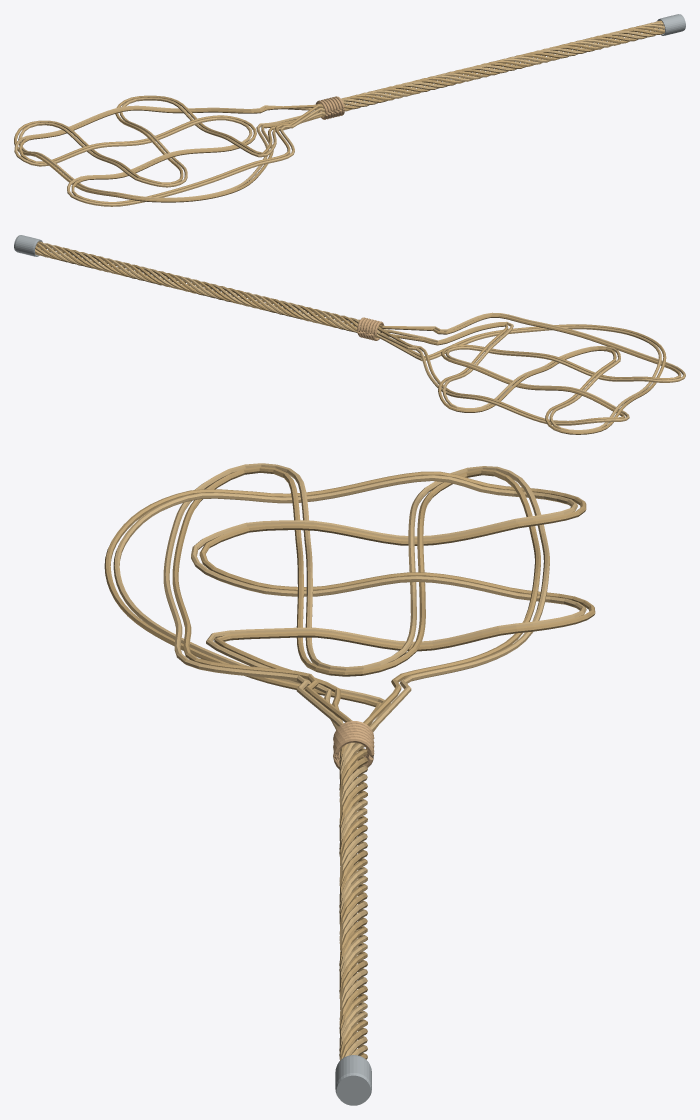
3 renders of one model, top to bottom at view 1: azimuth 30°, elevation 25°; view 2: azimuth 150°, elevation 25°; view 3: azimuth 270°, elevation 25°, orthographic. The views are drawn at different scales.
Visible parts, largest first — view 1: Continuous_paired_rattan_reed_01_head_and_handle, Continuous_paired_rattan_reed_02_head_and_handle, Continuous_paired_rattan_reed_04_head_and_handle, Continuous_paired_rattan_reed_03_head_and_handle, Continuous_throat_cane_binding, Short_metal_butt_ferrule_with_blind_bore; view 2: Continuous_paired_rattan_reed_02_head_and_handle, Continuous_paired_rattan_reed_01_head_and_handle, Continuous_paired_rattan_reed_04_head_and_handle, Continuous_paired_rattan_reed_03_head_and_handle, Continuous_throat_cane_binding, Short_metal_butt_ferrule_with_blind_bore; view 3: Continuous_paired_rattan_reed_03_head_and_handle, Continuous_paired_rattan_reed_04_head_and_handle, Continuous_paired_rattan_reed_02_head_and_handle, Continuous_paired_rattan_reed_01_head_and_handle, Short_metal_butt_ferrule_with_blind_bore, Continuous_throat_cane_binding.
Part boxes in pixels (left/top/right/bottom): Continuous_paired_rattan_reed_01_head_and_handle: left=18, top=20, right=662, bottom=203; Continuous_paired_rattan_reed_02_head_and_handle: left=14, top=22, right=664, bottom=206; Continuous_paired_rattan_reed_04_head_and_handle: left=18, top=24, right=664, bottom=199; Continuous_paired_rattan_reed_03_head_and_handle: left=14, top=26, right=664, bottom=202; Continuous_throat_cane_binding: left=315, top=96, right=344, bottom=119; Short_metal_butt_ferrule_with_blind_bore: left=657, top=14, right=685, bottom=35; Continuous_paired_rattan_reed_02_head_and_handle: left=35, top=241, right=685, bottom=425; Continuous_paired_rattan_reed_01_head_and_handle: left=35, top=243, right=681, bottom=422; Continuous_paired_rattan_reed_04_head_and_handle: left=35, top=243, right=661, bottom=431; Continuous_paired_rattan_reed_03_head_and_handle: left=35, top=245, right=666, bottom=434; Continuous_throat_cane_binding: left=357, top=317, right=384, bottom=340; Short_metal_butt_ferrule_with_blind_bore: left=14, top=235, right=42, bottom=256; Continuous_paired_rattan_reed_03_head_and_handle: left=104, top=471, right=595, bottom=1060; Continuous_paired_rattan_reed_04_head_and_handle: left=113, top=475, right=586, bottom=1057; Continuous_paired_rattan_reed_02_head_and_handle: left=163, top=463, right=549, bottom=1055; Continuous_paired_rattan_reed_01_head_and_handle: left=172, top=466, right=540, bottom=1059; Short_metal_butt_ferrule_with_blind_bore: left=335, top=1055, right=371, bottom=1105; Continuous_throat_cane_binding: left=333, top=721, right=374, bottom=769.
Bounding box in the file's own units: 0.75 × 0.0219 × 0.25.
